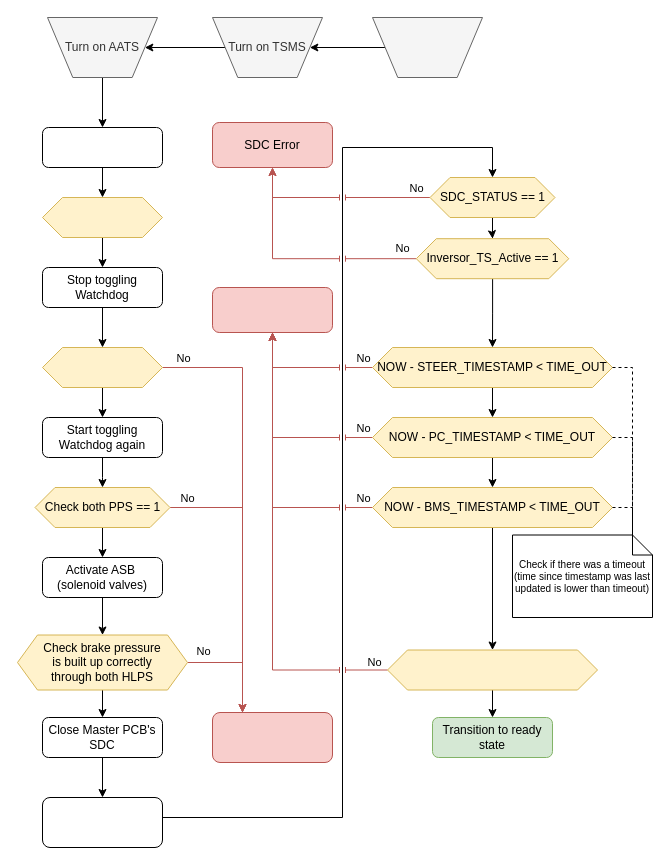
This 670x865 diagram has some shape labels left out. The shapes that lost their labels are listed below. From the top down, each one's centre as x and y in pixels, then its label:
At (427,47): "Turn on ASMS".
At (102,147): "Start Toggling Watchdog".
At (102,217): "WD_is_ready == 1".
At (272,309): "Component Failure".
At (102,367): "WD_is_ready == 0".
At (492,669): "PC Emergency?".
At (272,737): "EBS Error".
At (102,822): "Enable TS activation through “AS close SDC”".
